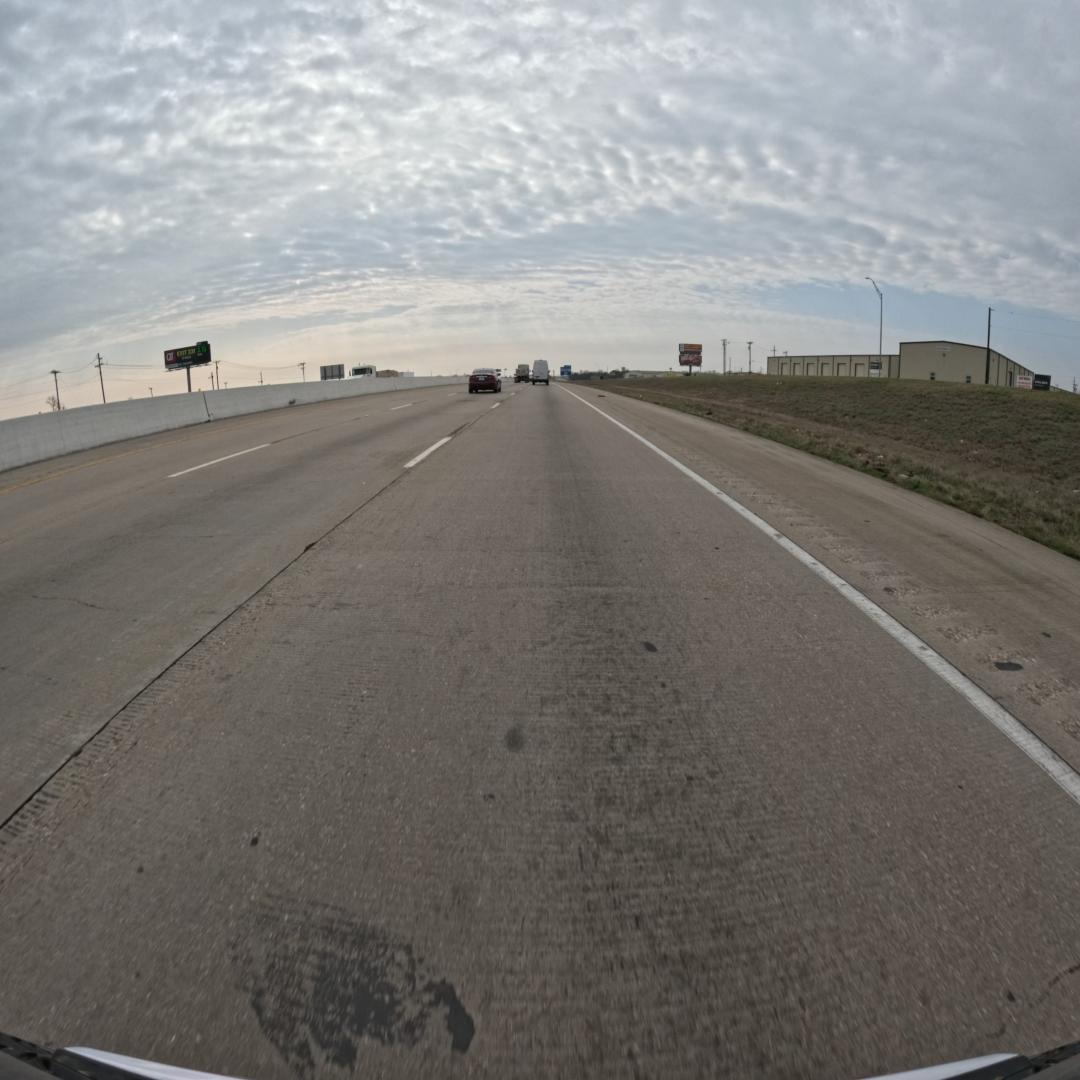lane0: (0, 386, 1080, 1077)
lane1: (0, 392, 499, 824)
